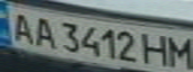1: (97, 26, 118, 60)
2: (115, 28, 142, 63)
3: (54, 19, 84, 54)
4: (78, 24, 100, 57)
A: (3, 9, 39, 44), (27, 15, 60, 48)
H: (139, 32, 172, 68)
M: (163, 34, 193, 69)
